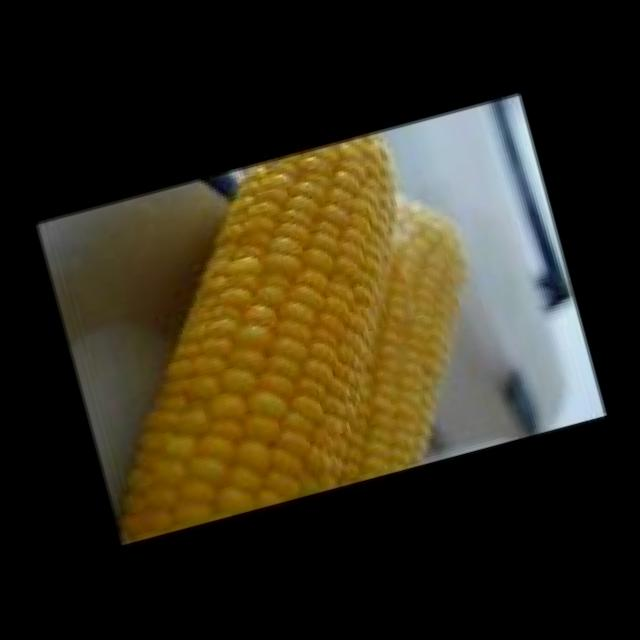corn: (115, 136, 468, 544)
